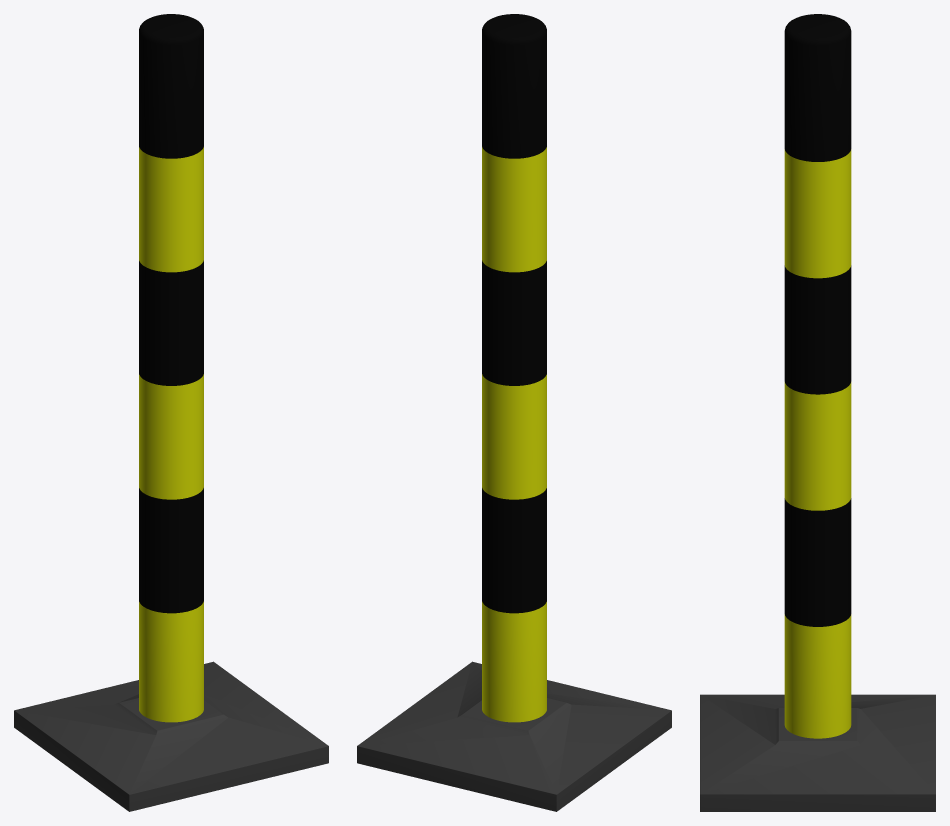
Rendered from Police_Pylon.fbx.
3 renders of one model, left to right at view 1: azimuth 30°, elevation 25°; view 2: azimuth 150°, elevation 25°; view 3: azimuth 270°, elevation 25°, orthographic. The views are drawn at different scales.
Parts seen in each view (by area): view 1: Police_Pylon; view 2: Police_Pylon; view 3: Police_Pylon.
Boxes of the visible parts, x1,y1,x2,y2 form: Police_Pylon: (14, 14, 328, 811); Police_Pylon: (357, 14, 671, 811); Police_Pylon: (700, 14, 935, 811).
Size of the model in its own units: 200 by 689 by 200.
